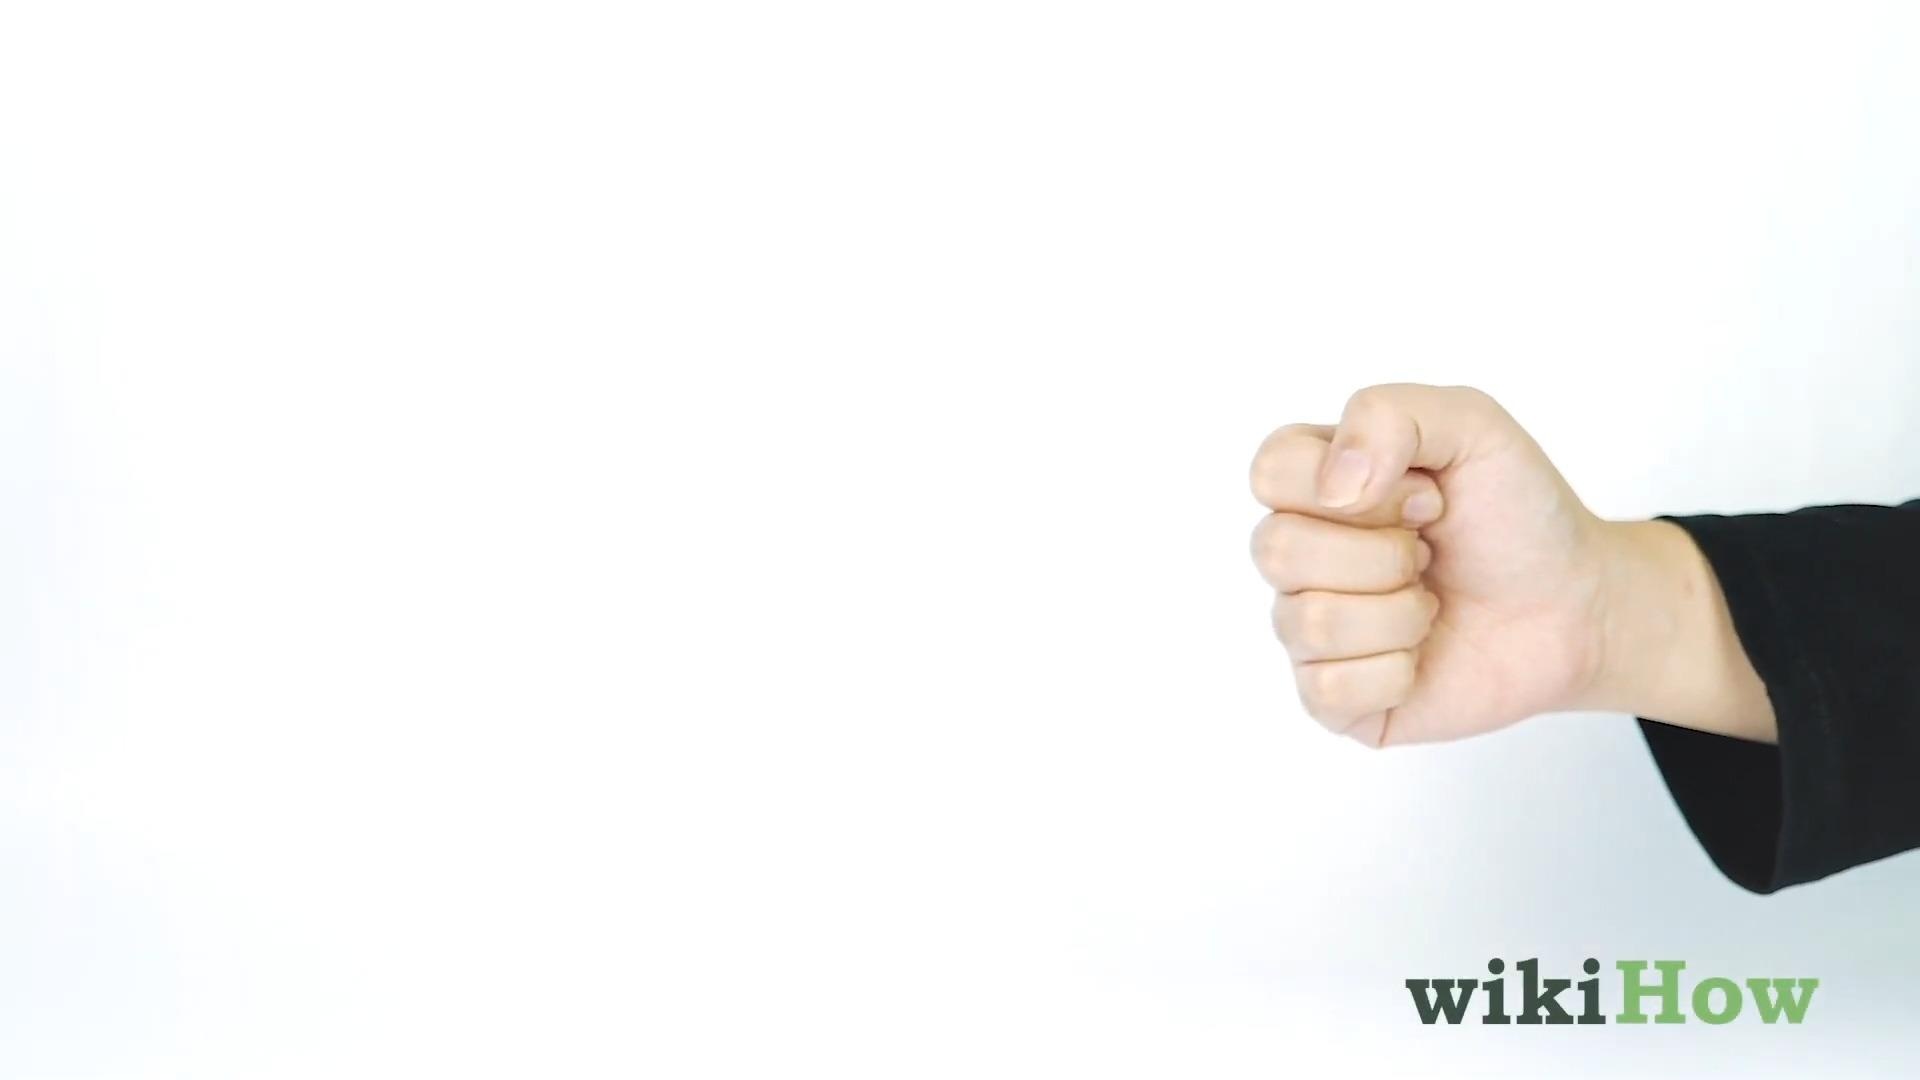Rock: (1247, 377, 1592, 753)
